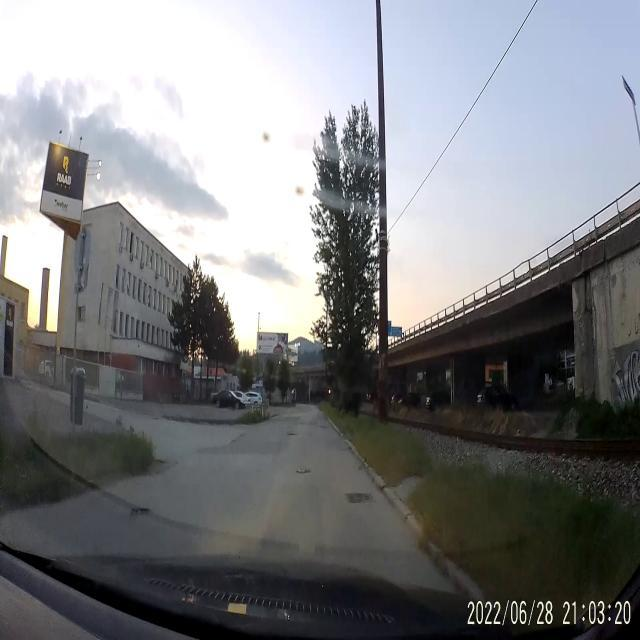Manhole: (342, 488, 379, 511)
Pothole: (130, 503, 150, 517), (296, 466, 310, 476)
